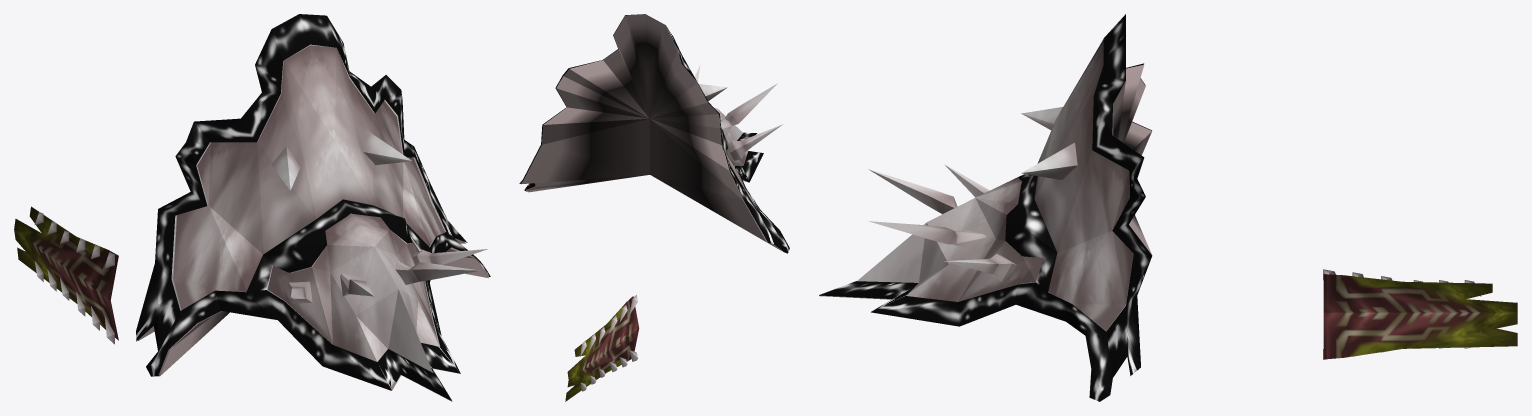
3 views of the same model, side by side, from view 1: azimuth 30°, elevation 25°; view 2: azimuth 150°, elevation 25°; view 3: azimuth 270°, elevation 25° (orthographic). The views are drawn at different scales.
Visible parts, largest first — view 1: B_0044_2a_0, B_0044_2a_1; view 2: B_0044_2a_0, B_0044_2a_1; view 3: B_0044_2a_0, B_0044_2a_1.
Part boxes in pixels (x1,y1,x2,y2): B_0044_2a_0: (14,44,488,401); B_0044_2a_1: (136,14,490,400); B_0044_2a_0: (521,14,786,401); B_0044_2a_1: (519,14,789,253); B_0044_2a_0: (819,39,1517,397); B_0044_2a_1: (819,14,1151,401).
Size of the model in its own units: 2.53 by 2.67 by 4.41.
Materials: 2 (2 with a texture image).
